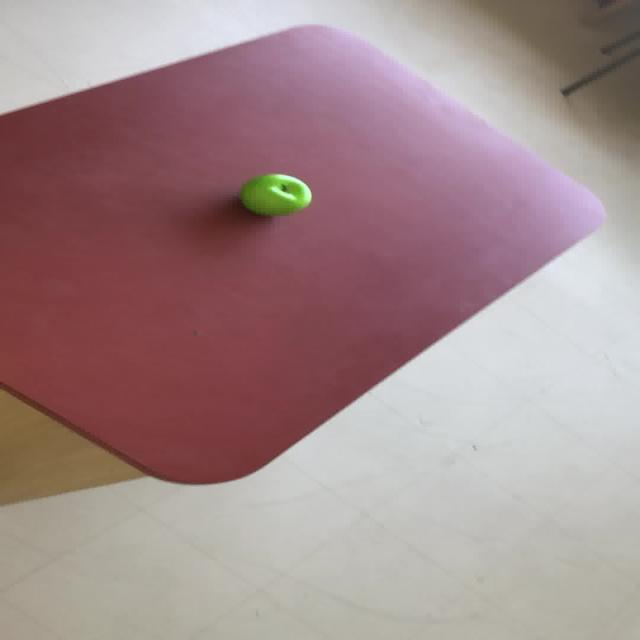apple: (238, 172, 312, 215)
